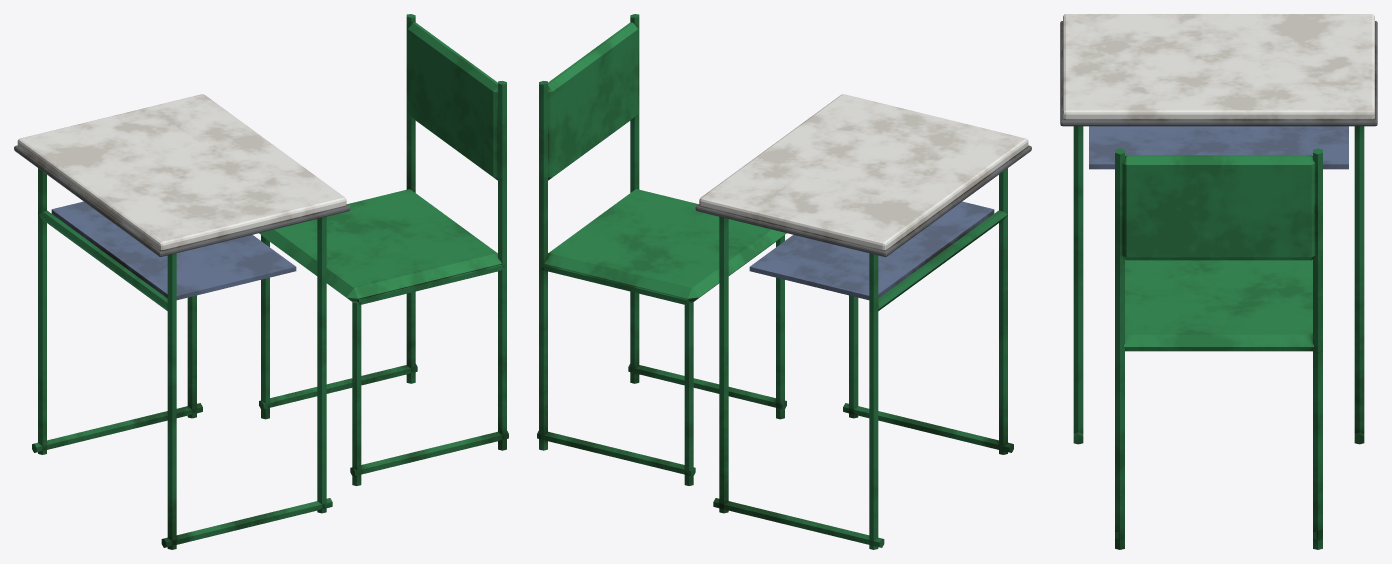
Rendered from carteira_fnde_sujo_realista.glb.
3 views of the same model, side by side, from view 1: azimuth 30°, elevation 25°; view 2: azimuth 150°, elevation 25°; view 3: azimuth 270°, elevation 25° (orthographic). The views are drawn at different scales.
Parts seen in each view (by area): view 1: Carteira_110_159.001; view 2: Carteira_110_159.001; view 3: Carteira_110_159.001.
Boxes of the visible parts, x1,y1,x2,y2 form: Carteira_110_159.001: (14, 14, 508, 549); Carteira_110_159.001: (537, 14, 1031, 549); Carteira_110_159.001: (1060, 14, 1377, 549).
Size of the model in its own units: 0.905 by 0.8413 by 0.61.
Materials: 1 (1 with a texture image).
